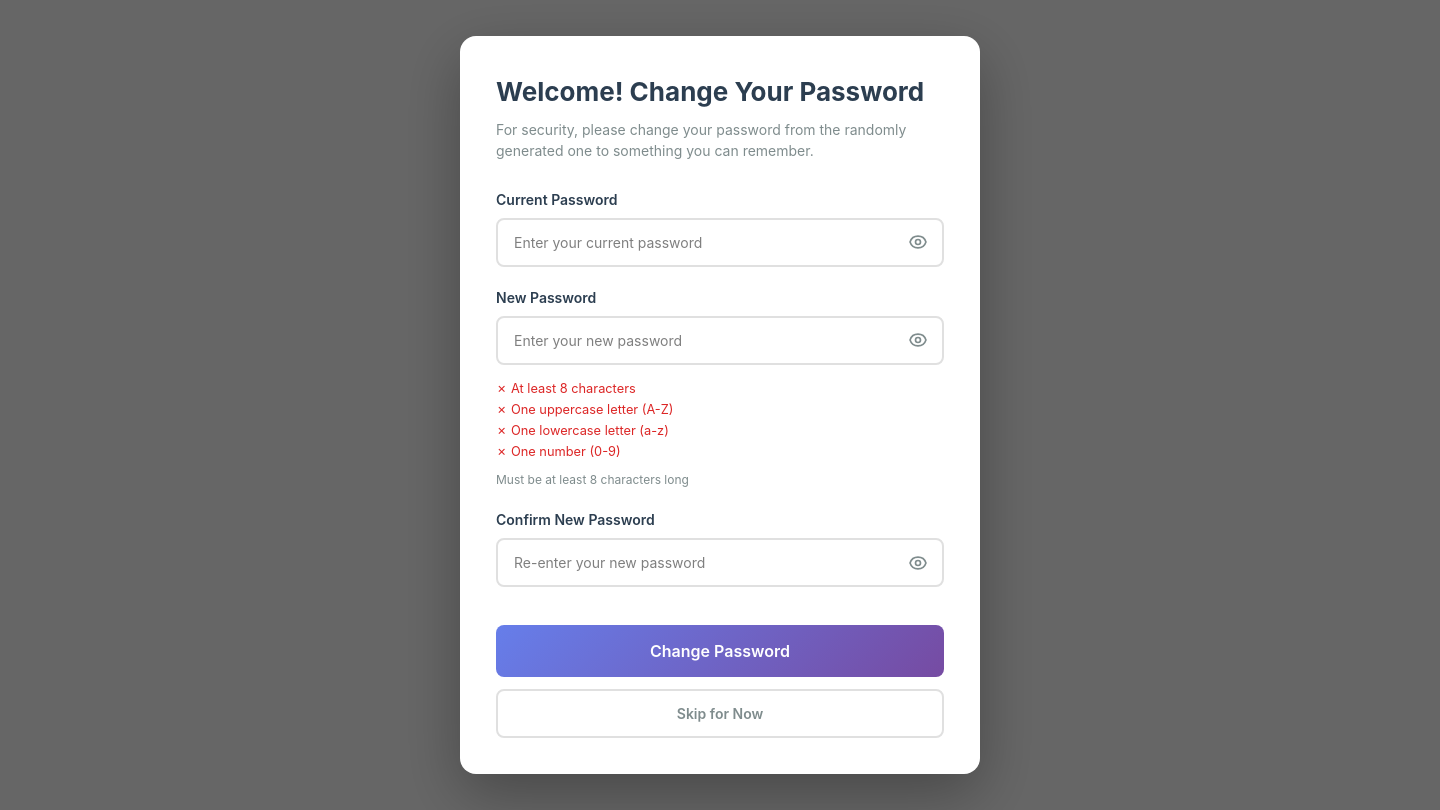
FirstLoginModal Component › Form Validation › should show error when passwords do not match
Type "OldPass123!" into the password field labelled "Current Password".
click(720, 242); type("OldPass123!")  # box [496, 218, 944, 267]
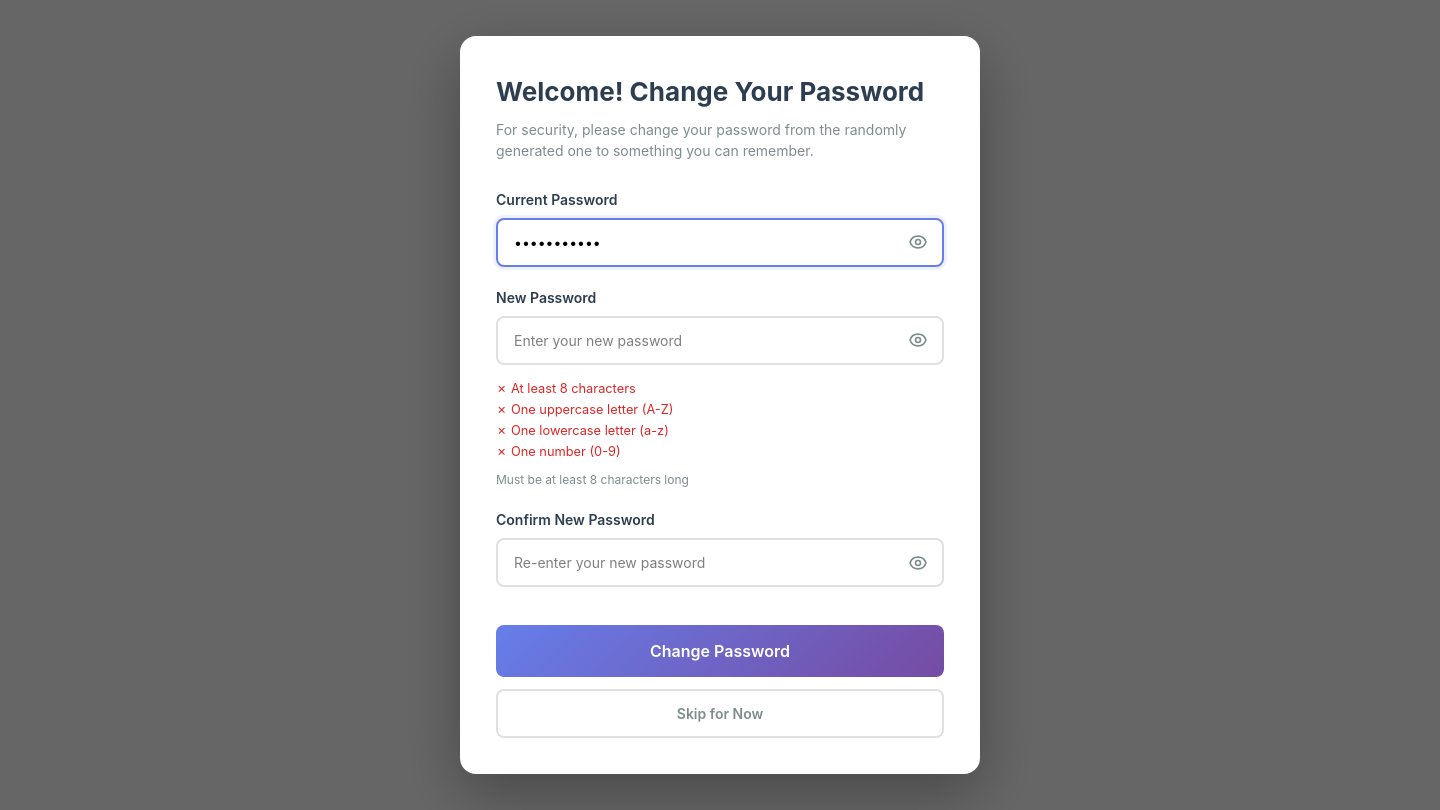
Type "NewPass456!" into the password field labelled "New Password".
click(720, 340); type("NewPass456!")  # box [496, 316, 944, 365]
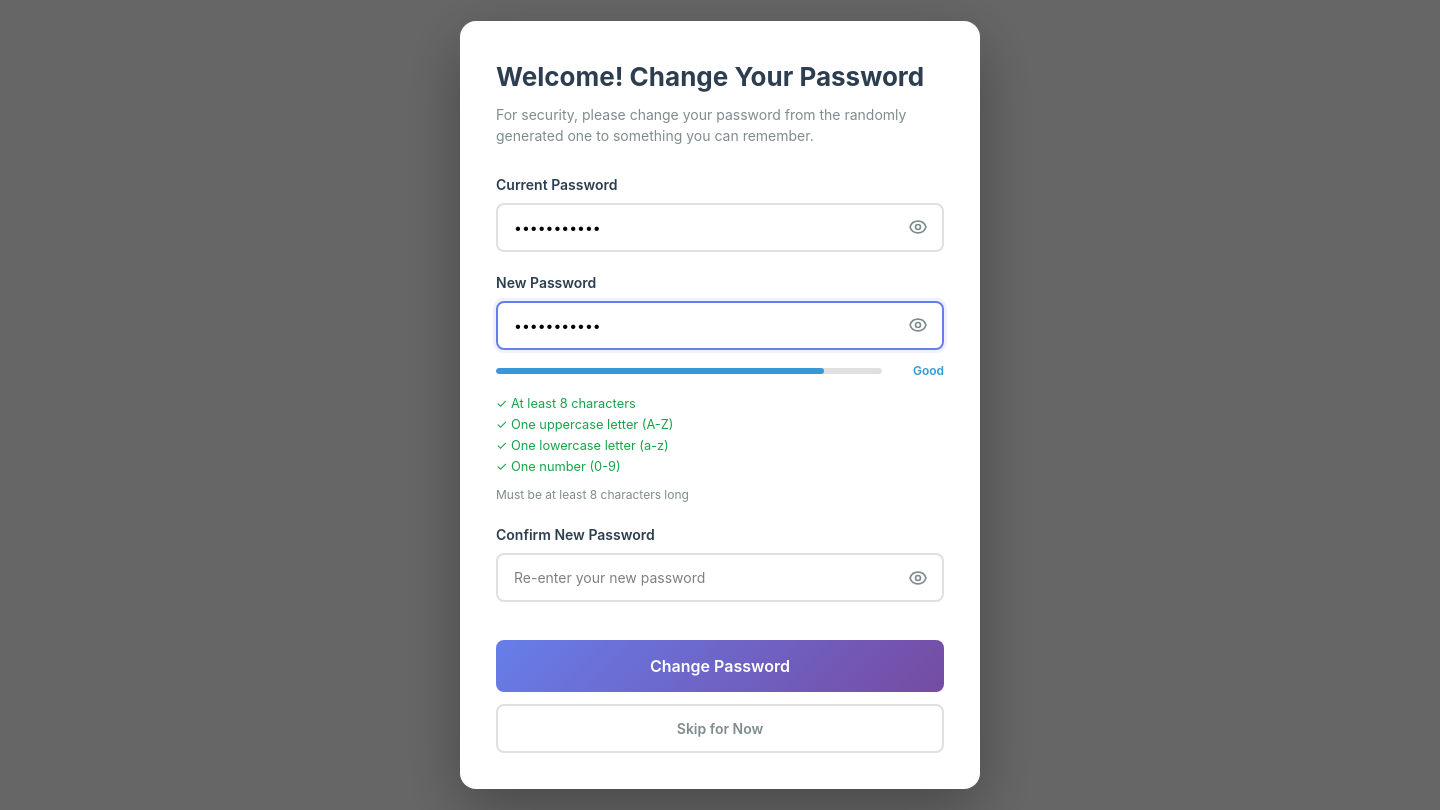
Type "DifferentPass!" into the password field labelled "Confirm New Password".
click(720, 578); type("DifferentPass!")  # box [496, 553, 944, 602]
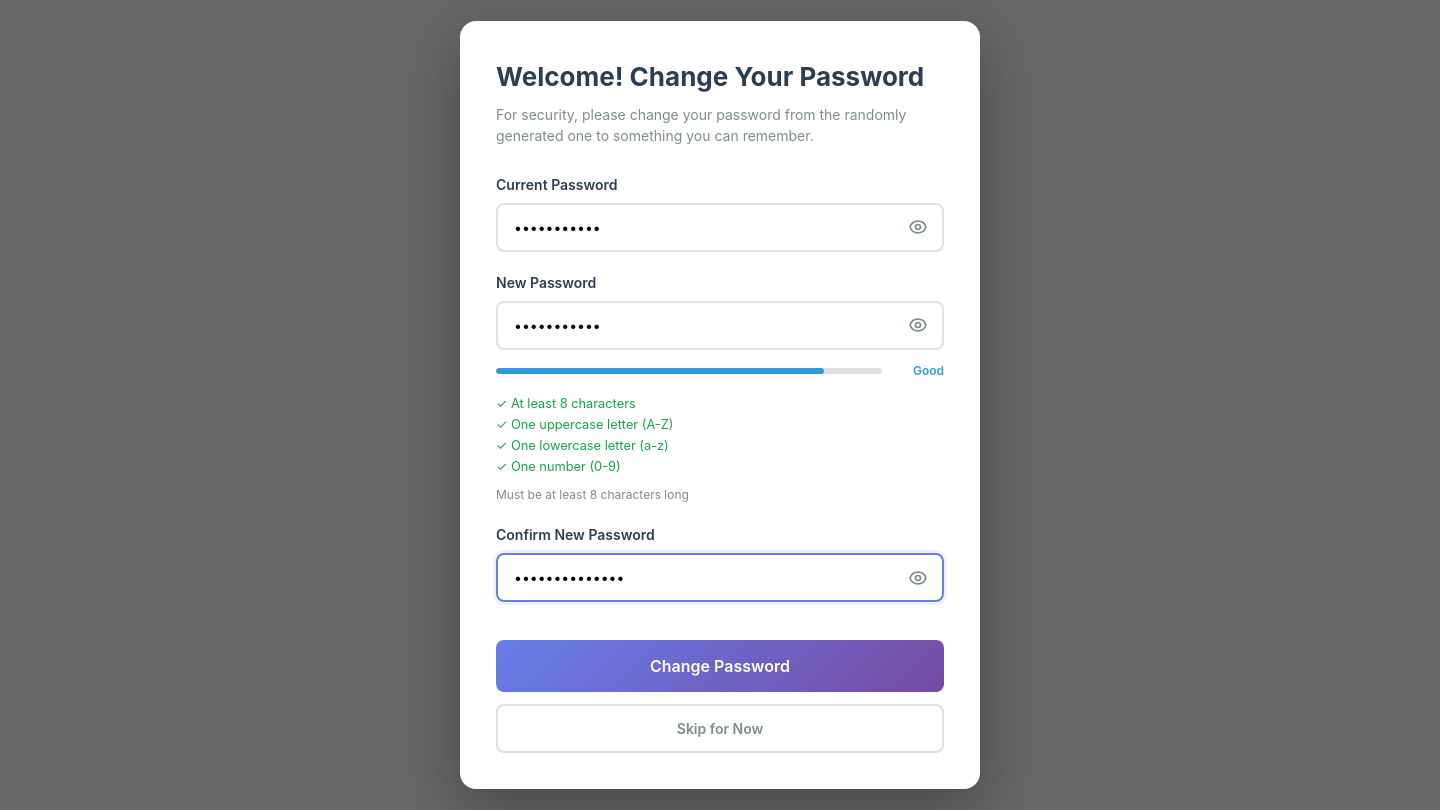
Click the button "Change Password".
click(720, 666)  # box [496, 640, 944, 692]
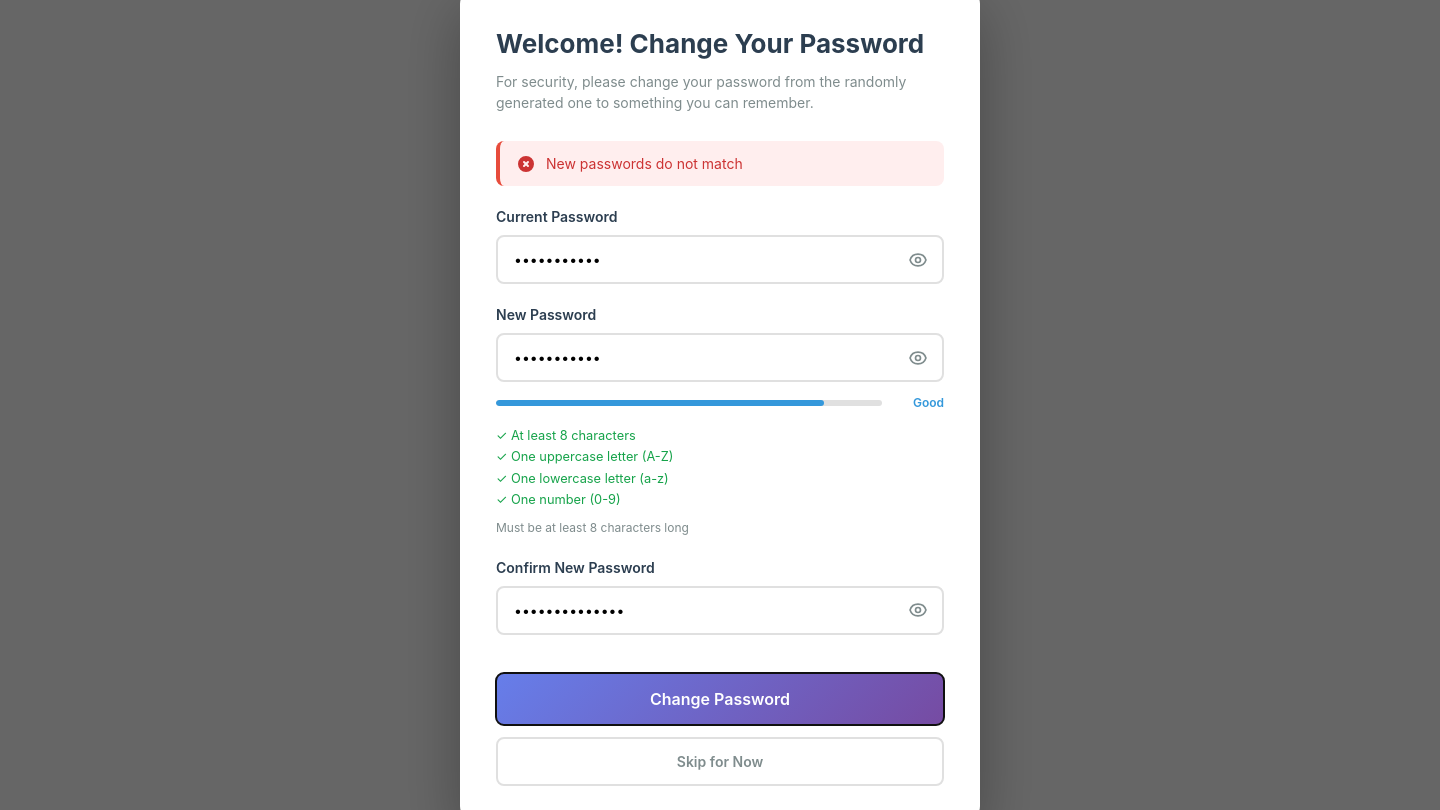
Result: the text "New passwords do not match" is shown at [496, 141, 944, 186]
